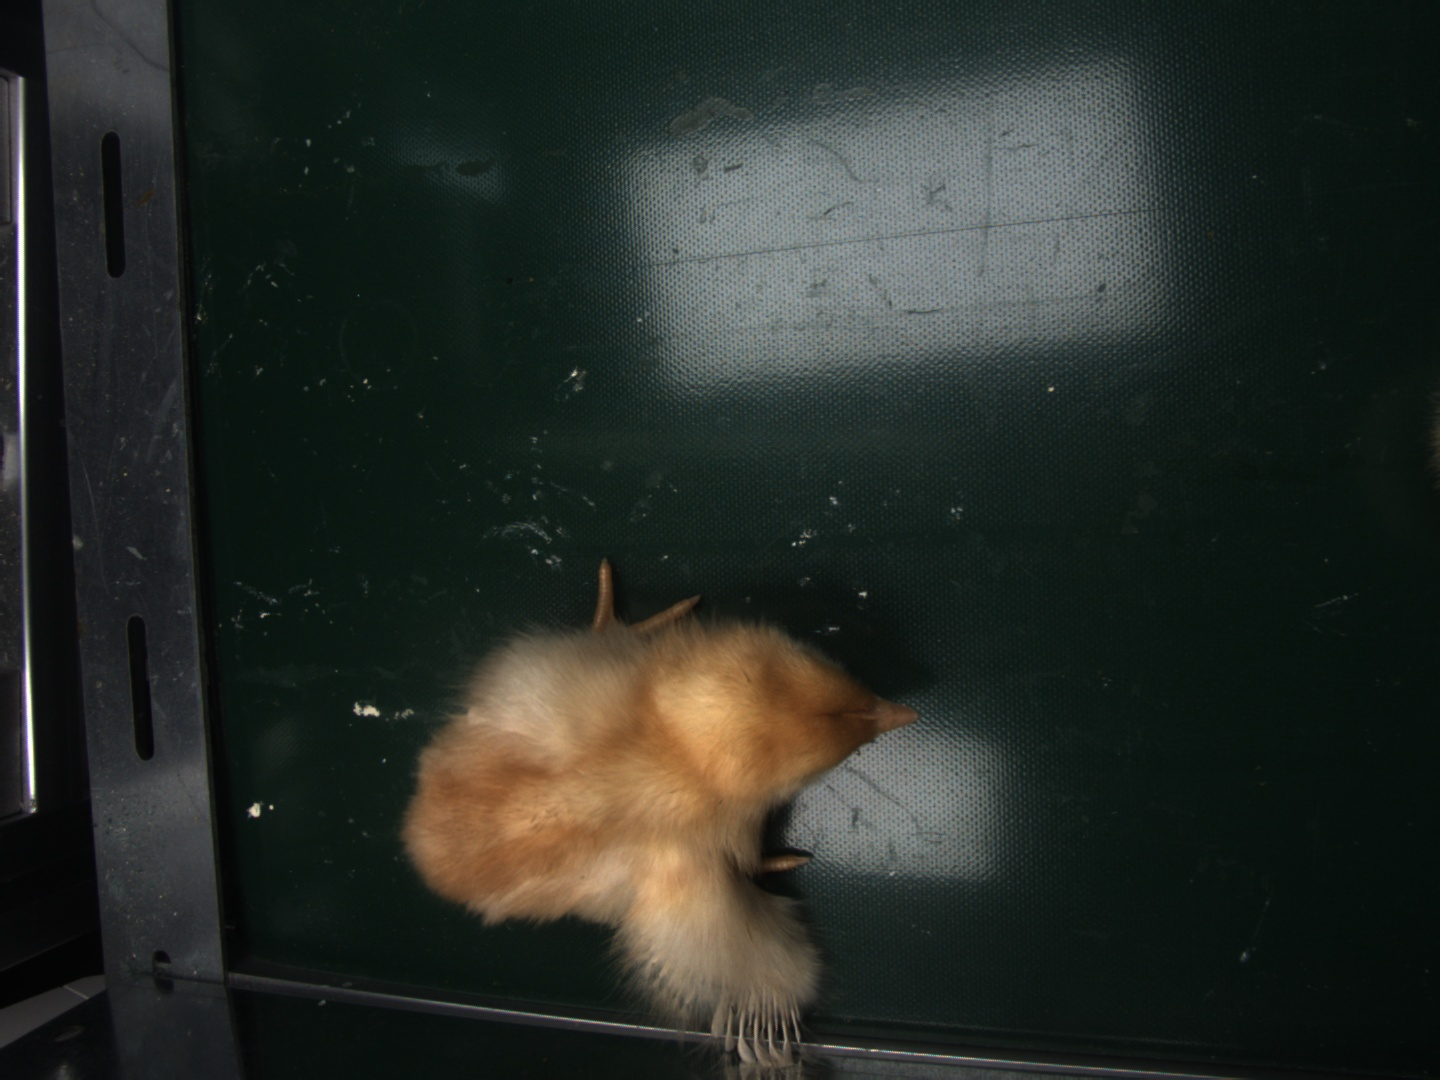female: (715, 992, 804, 1070)
